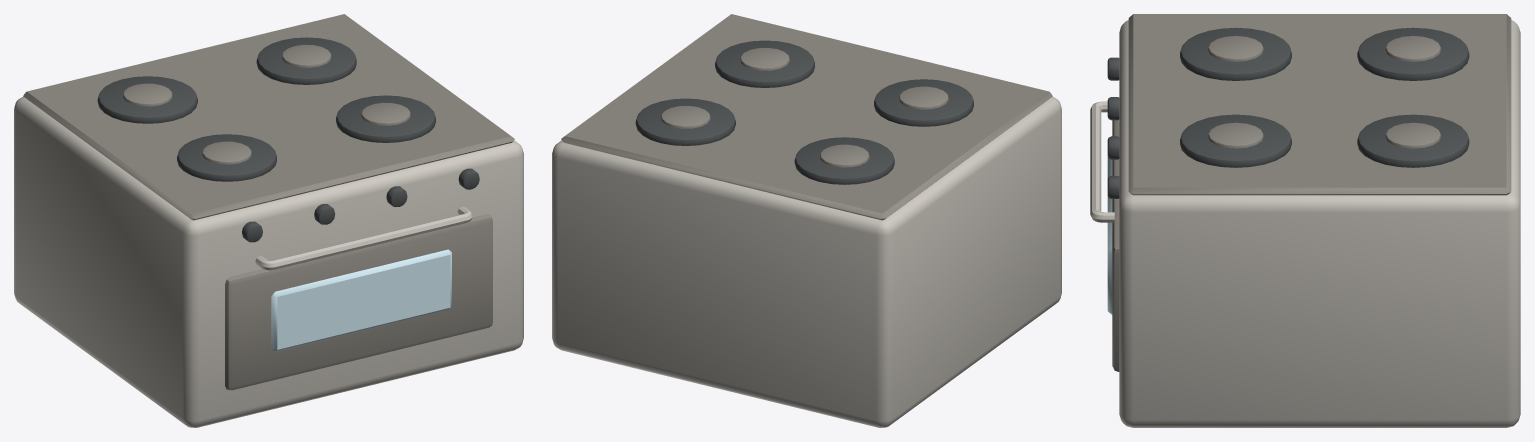
The model's file is cooker.glb.
The picture shows the model from 3 angles, left to right: view 1: azimuth 30°, elevation 25°; view 2: azimuth 150°, elevation 25°; view 3: azimuth 270°, elevation 25°; orthographic projection. The views are drawn at different scales.
Visible parts, largest first — view 1: steel, steel_dark, rubber, glass; view 2: steel, steel_dark, rubber; view 3: steel, steel_dark, rubber, glass.
Part boxes in pixels (x1=…): steel: x1=14, y1=96, x2=523, y2=427; steel_dark: x1=23, y1=14, x2=514, y2=390; rubber: x1=97, y1=37, x2=479, y2=242; glass: x1=271, y1=249, x2=451, y2=351; steel: x1=552, y1=96, x2=1061, y2=427; steel_dark: x1=561, y1=14, x2=1052, y2=220; rubber: x1=635, y1=40, x2=973, y2=184; steel: x1=1090, y1=20, x2=1520, y2=427; steel_dark: x1=1112, y1=14, x2=1511, y2=371; rubber: x1=1107, y1=27, x2=1469, y2=198; glass: x1=1107, y1=157, x2=1112, y2=314.
Size of the model in its own units: 0.94 by 0.59 by 0.922.
